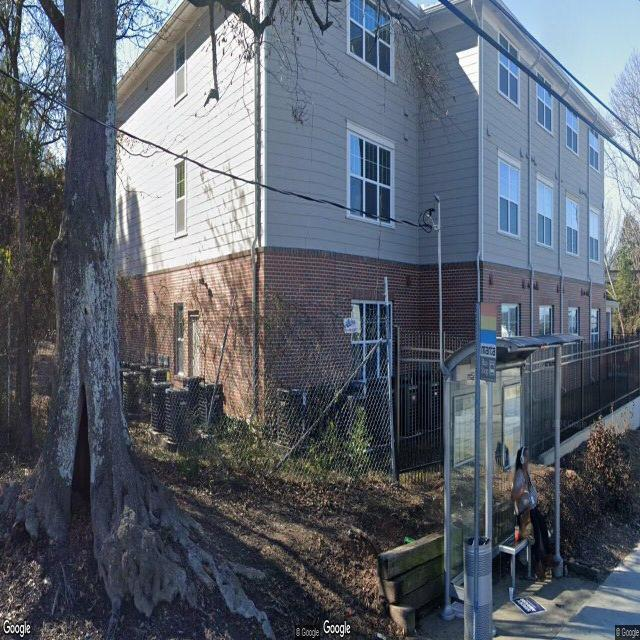seating: (497, 535, 531, 588)
shelter: (438, 334, 584, 621)
trash_can: (464, 534, 492, 640)
